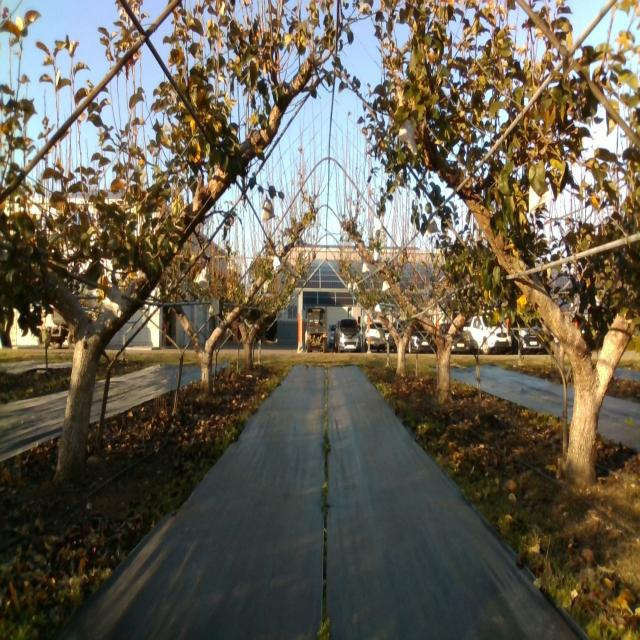pearbags: (529, 180, 552, 214), (398, 118, 418, 154), (102, 284, 122, 318), (262, 195, 276, 222), (196, 260, 210, 286)
